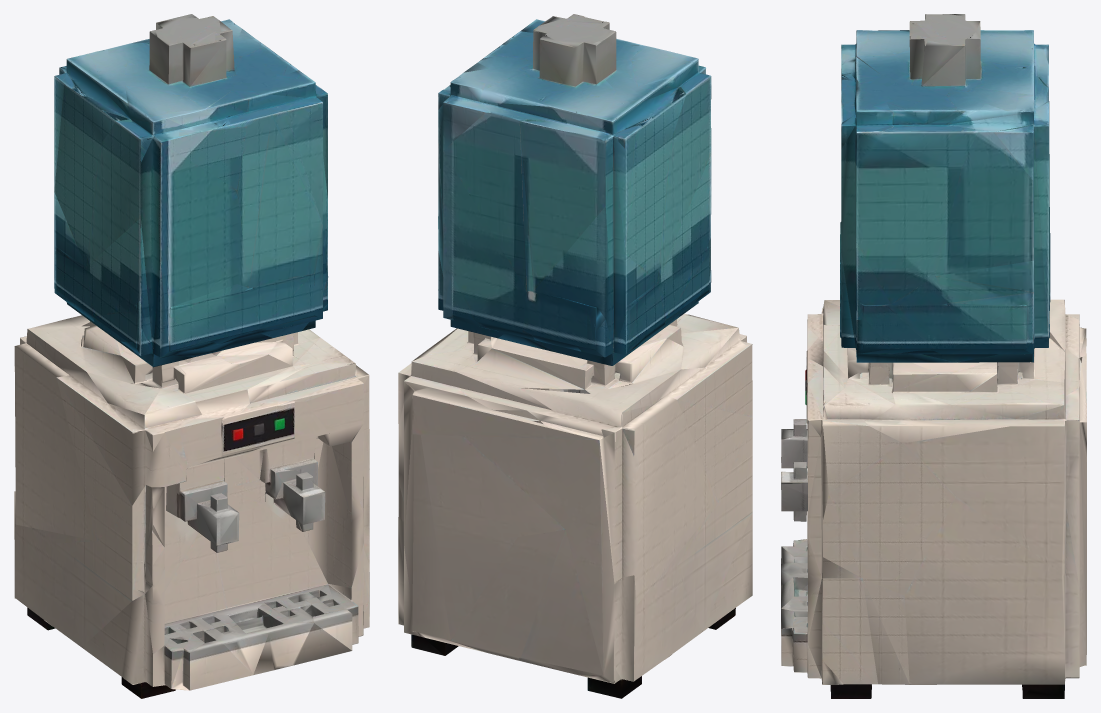
File: water_cooler.glb
3 views of the same model, side by side, from view 1: azimuth 30°, elevation 25°; view 2: azimuth 150°, elevation 25°; view 3: azimuth 270°, elevation 25° (orthographic). The views are drawn at different scales.
Bounding box in the file's own units: 0.8253 × 2 × 0.8991.
1 material, 1 textured.
